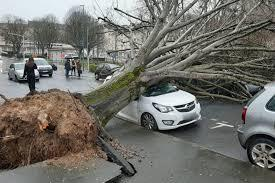Downstairs: (1, 1, 273, 149)
